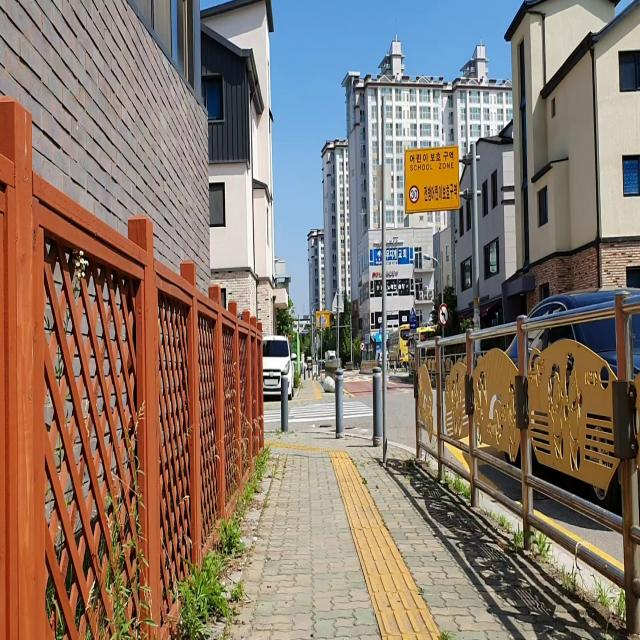횡단보도: (264, 402, 373, 428)
